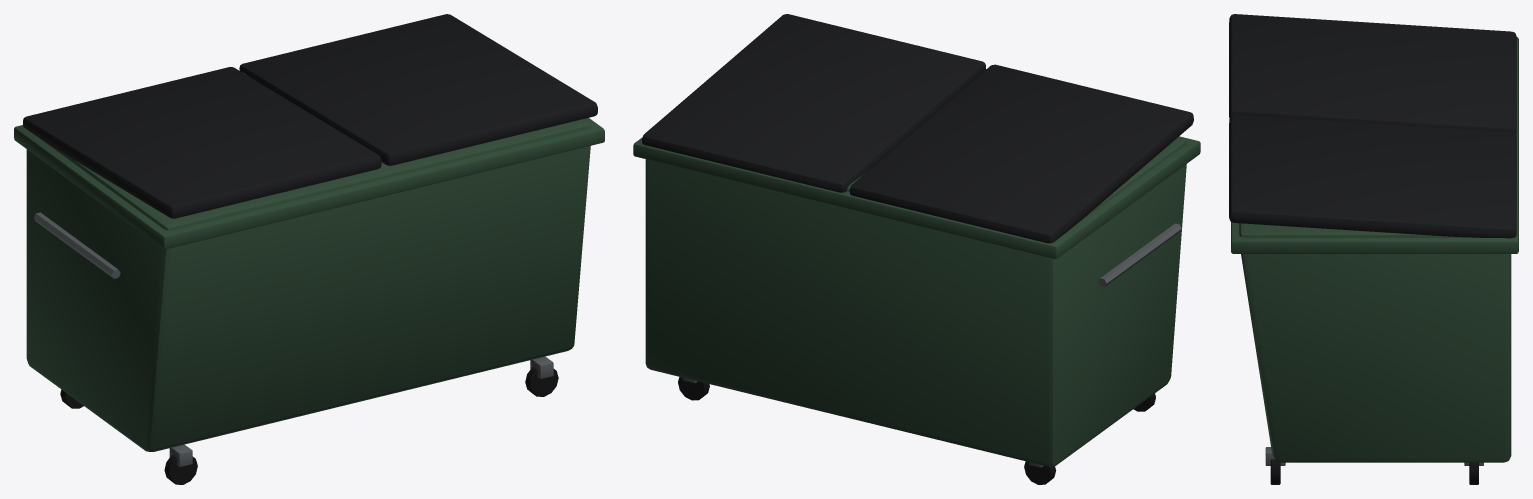
Rendered from dumpster.glb.
3 renders of one model, left to right at view 1: azimuth 30°, elevation 25°; view 2: azimuth 150°, elevation 25°; view 3: azimuth 270°, elevation 25°, orthographic. The views are drawn at different scales.
Parts seen in each view (by area): view 1: dumpster; view 2: dumpster; view 3: dumpster.
Boxes of the visible parts, box(x1,y1,x2,y2) form: dumpster: box(14, 14, 604, 484); dumpster: box(633, 14, 1200, 484); dumpster: box(1229, 14, 1518, 484).
Size of the model in its own units: 2.03 by 1.28 by 1.17.
